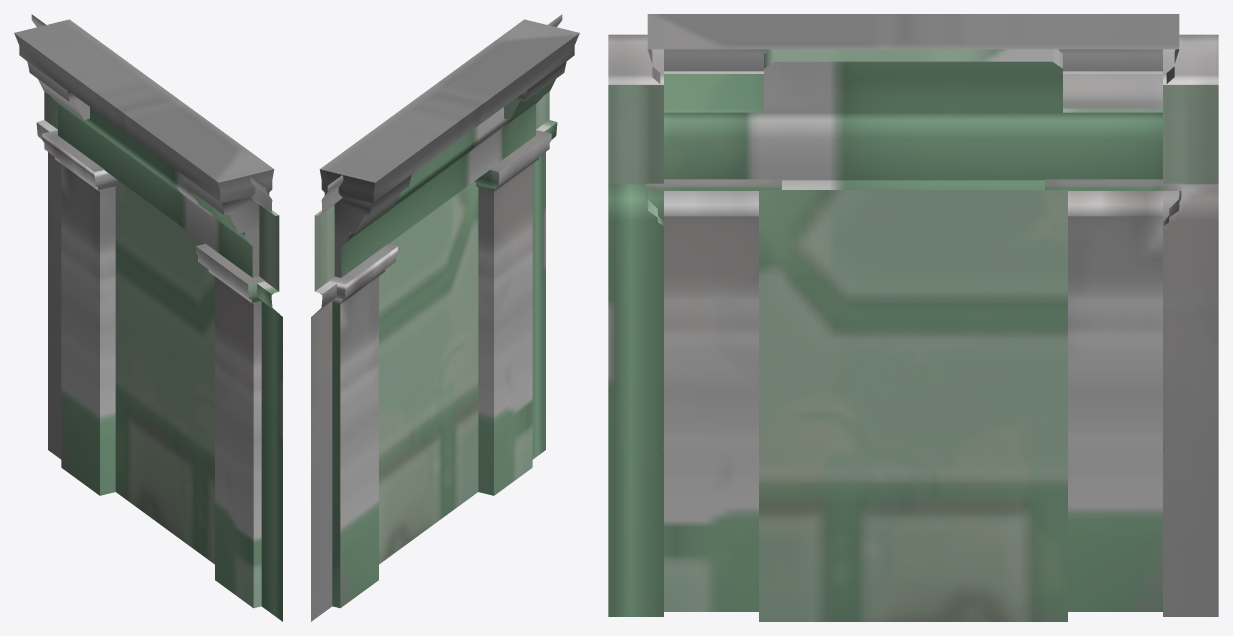
File: qVin_Buld2_F2Window_Centr.fbx
The picture shows the model from 3 angles, left to right: view 1: azimuth 30°, elevation 25°; view 2: azimuth 150°, elevation 25°; view 3: azimuth 270°, elevation 25°; orthographic projection. The views are drawn at different scales.
Visible parts, largest first — view 1: qVin_Buld2_F2Window_Centr; view 2: qVin_Buld2_F2Window_Centr; view 3: qVin_Buld2_F2Window_Centr.
Part boxes in pixels (x1,y1,x2,y2): qVin_Buld2_F2Window_Centr: [14, 14, 282, 621]; qVin_Buld2_F2Window_Centr: [311, 14, 579, 621]; qVin_Buld2_F2Window_Centr: [608, 14, 1218, 621].
Bounding box in the file's own units: 41.98 × 310 × 300.
Materials: 1 (1 with a texture image).
